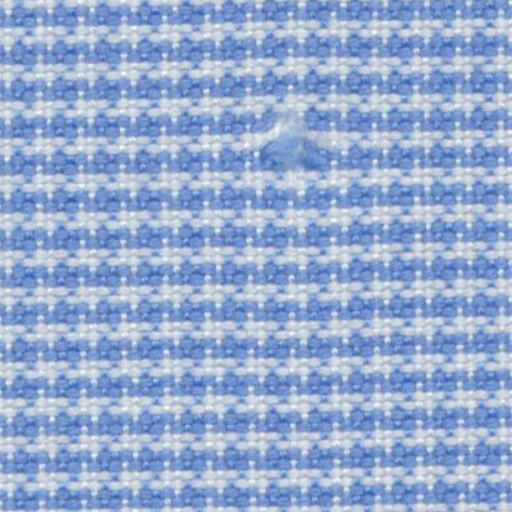MianQiu: (232, 98, 356, 192)
